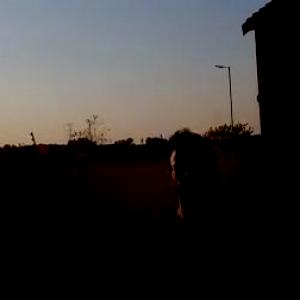follow: (134, 127, 278, 299)
